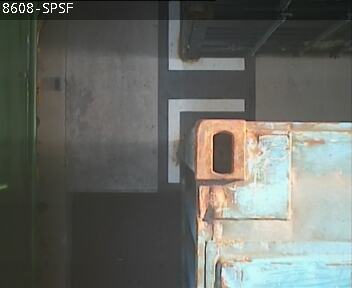groundmarker_1: (167, 1, 246, 184)
